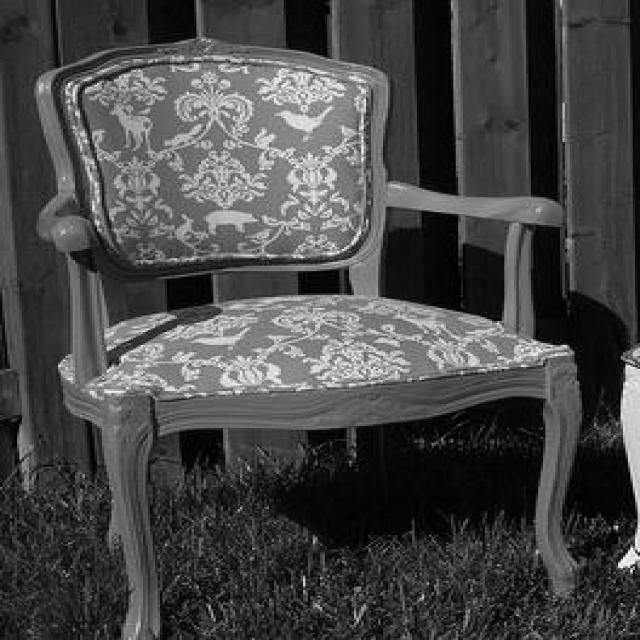chair: (36, 32, 584, 639)
